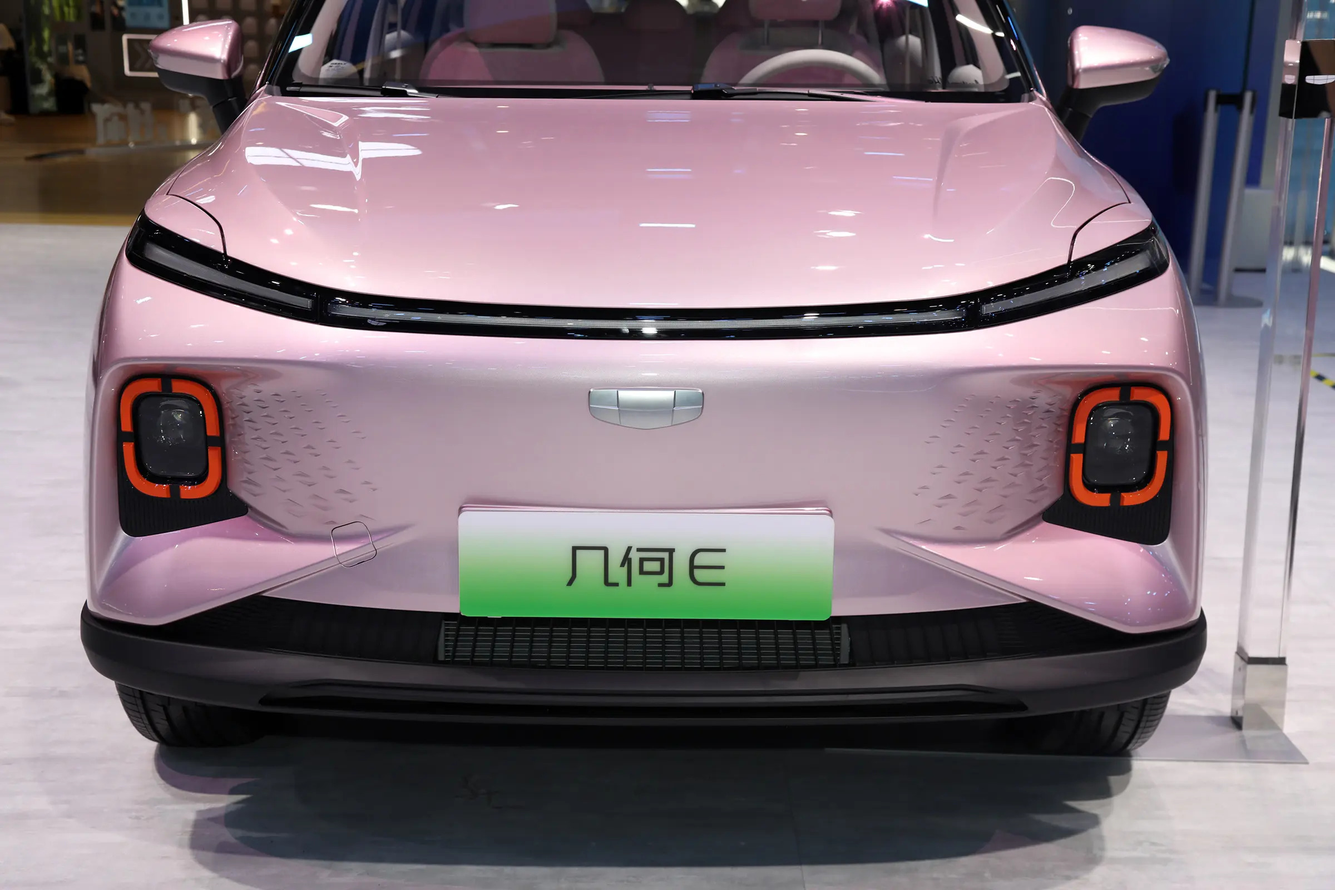GEOMETRY: (590, 389, 703, 428)
